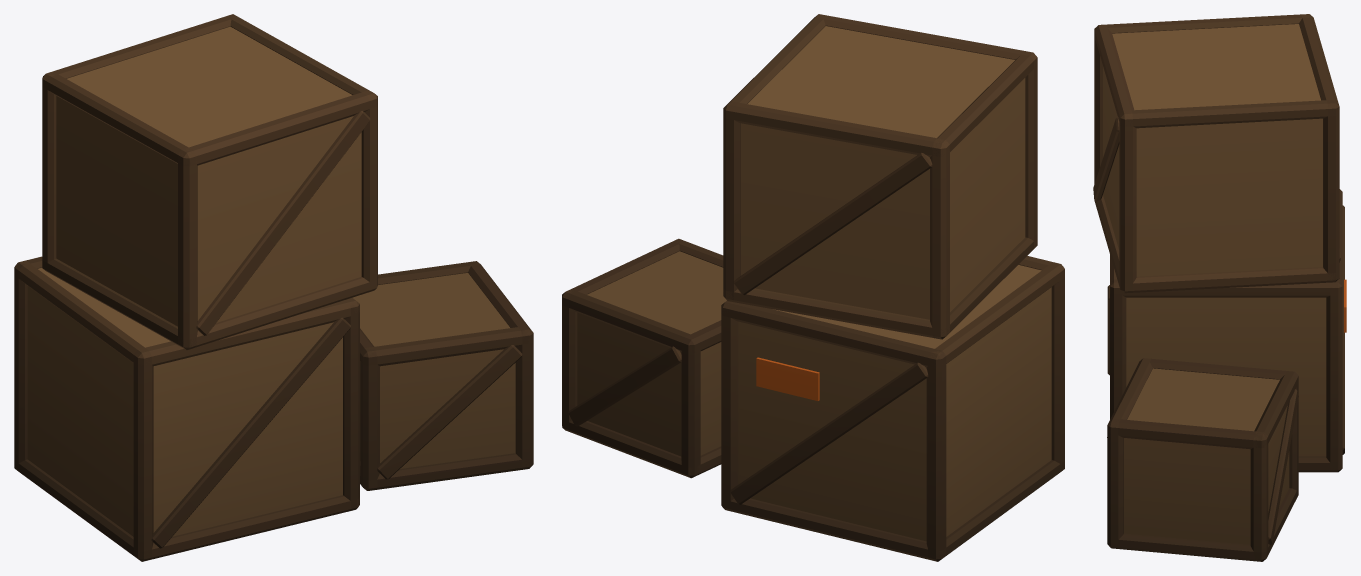
Rendered from crate_stack.glb.
The picture shows the model from 3 angles, left to right: view 1: azimuth 30°, elevation 25°; view 2: azimuth 150°, elevation 25°; view 3: azimuth 270°, elevation 25°; orthographic projection. The views are drawn at different scales.
Visible parts, largest first — view 1: crate_stack; view 2: crate_stack; view 3: crate_stack.
Part boxes in pixels (<box>): crate_stack: <box>14,14,533,561</box>; crate_stack: <box>562,14,1064,561</box>; crate_stack: <box>1093,14,1346,561</box>.
Bounding box in the file's own units: 1.91 × 1.75 × 1.09.
